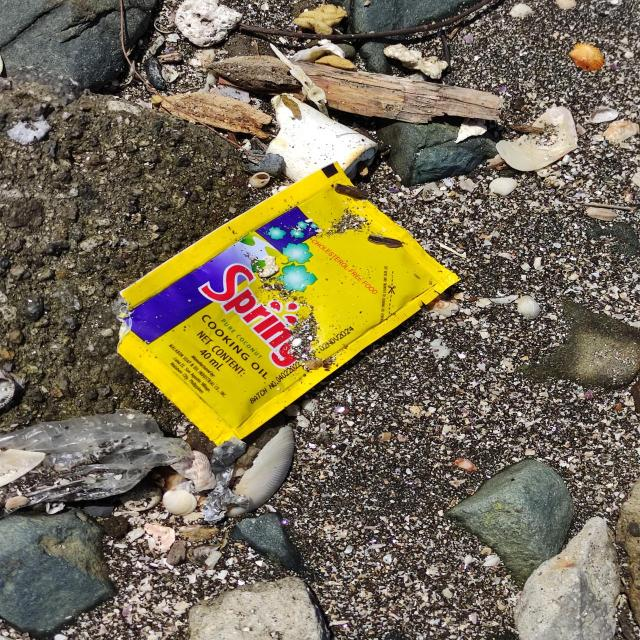plastic_waste: (113, 163, 466, 448)
